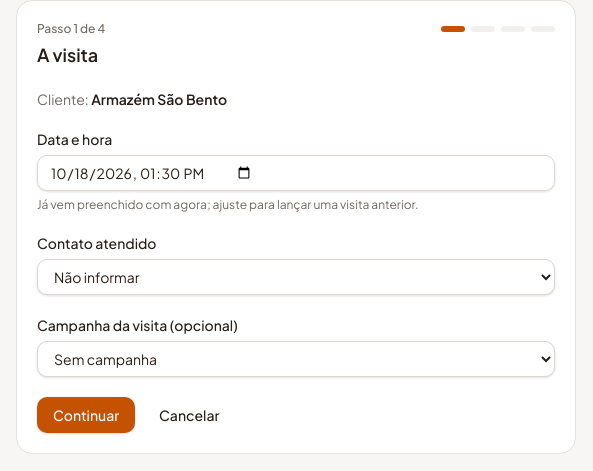
Test: CheckInPage — passos › toque duplo no Continuar avança um passo só
Expected: the text "Armazém São Bento" is shown, x1=91 y1=90 x2=227 y2=108
Double-click the button "Continuar": (86, 415) x1=37 y1=397 x2=135 y2=433
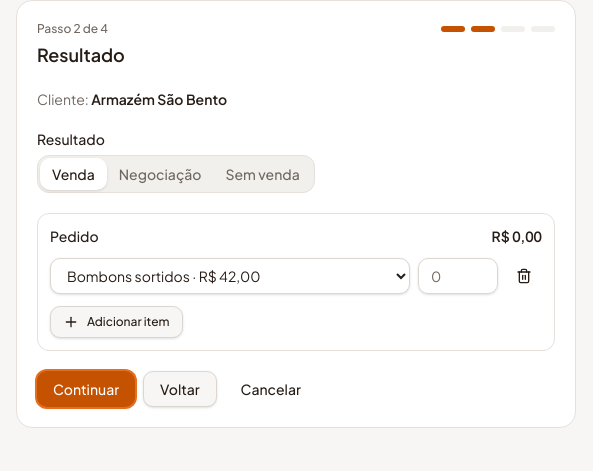
Expected: the text "Passo 2 de 4" is shown, x1=37 y1=21 x2=108 y2=37
Expected: the heading "Resultado" is shown, x1=37 y1=43 x2=125 y2=66
